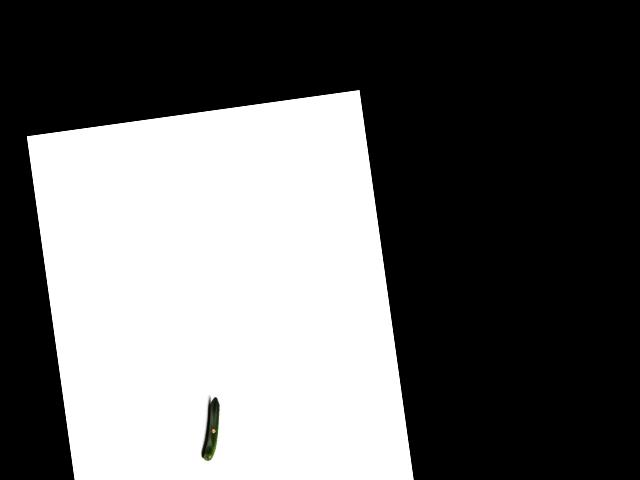cucumber: (195, 397, 226, 461)
